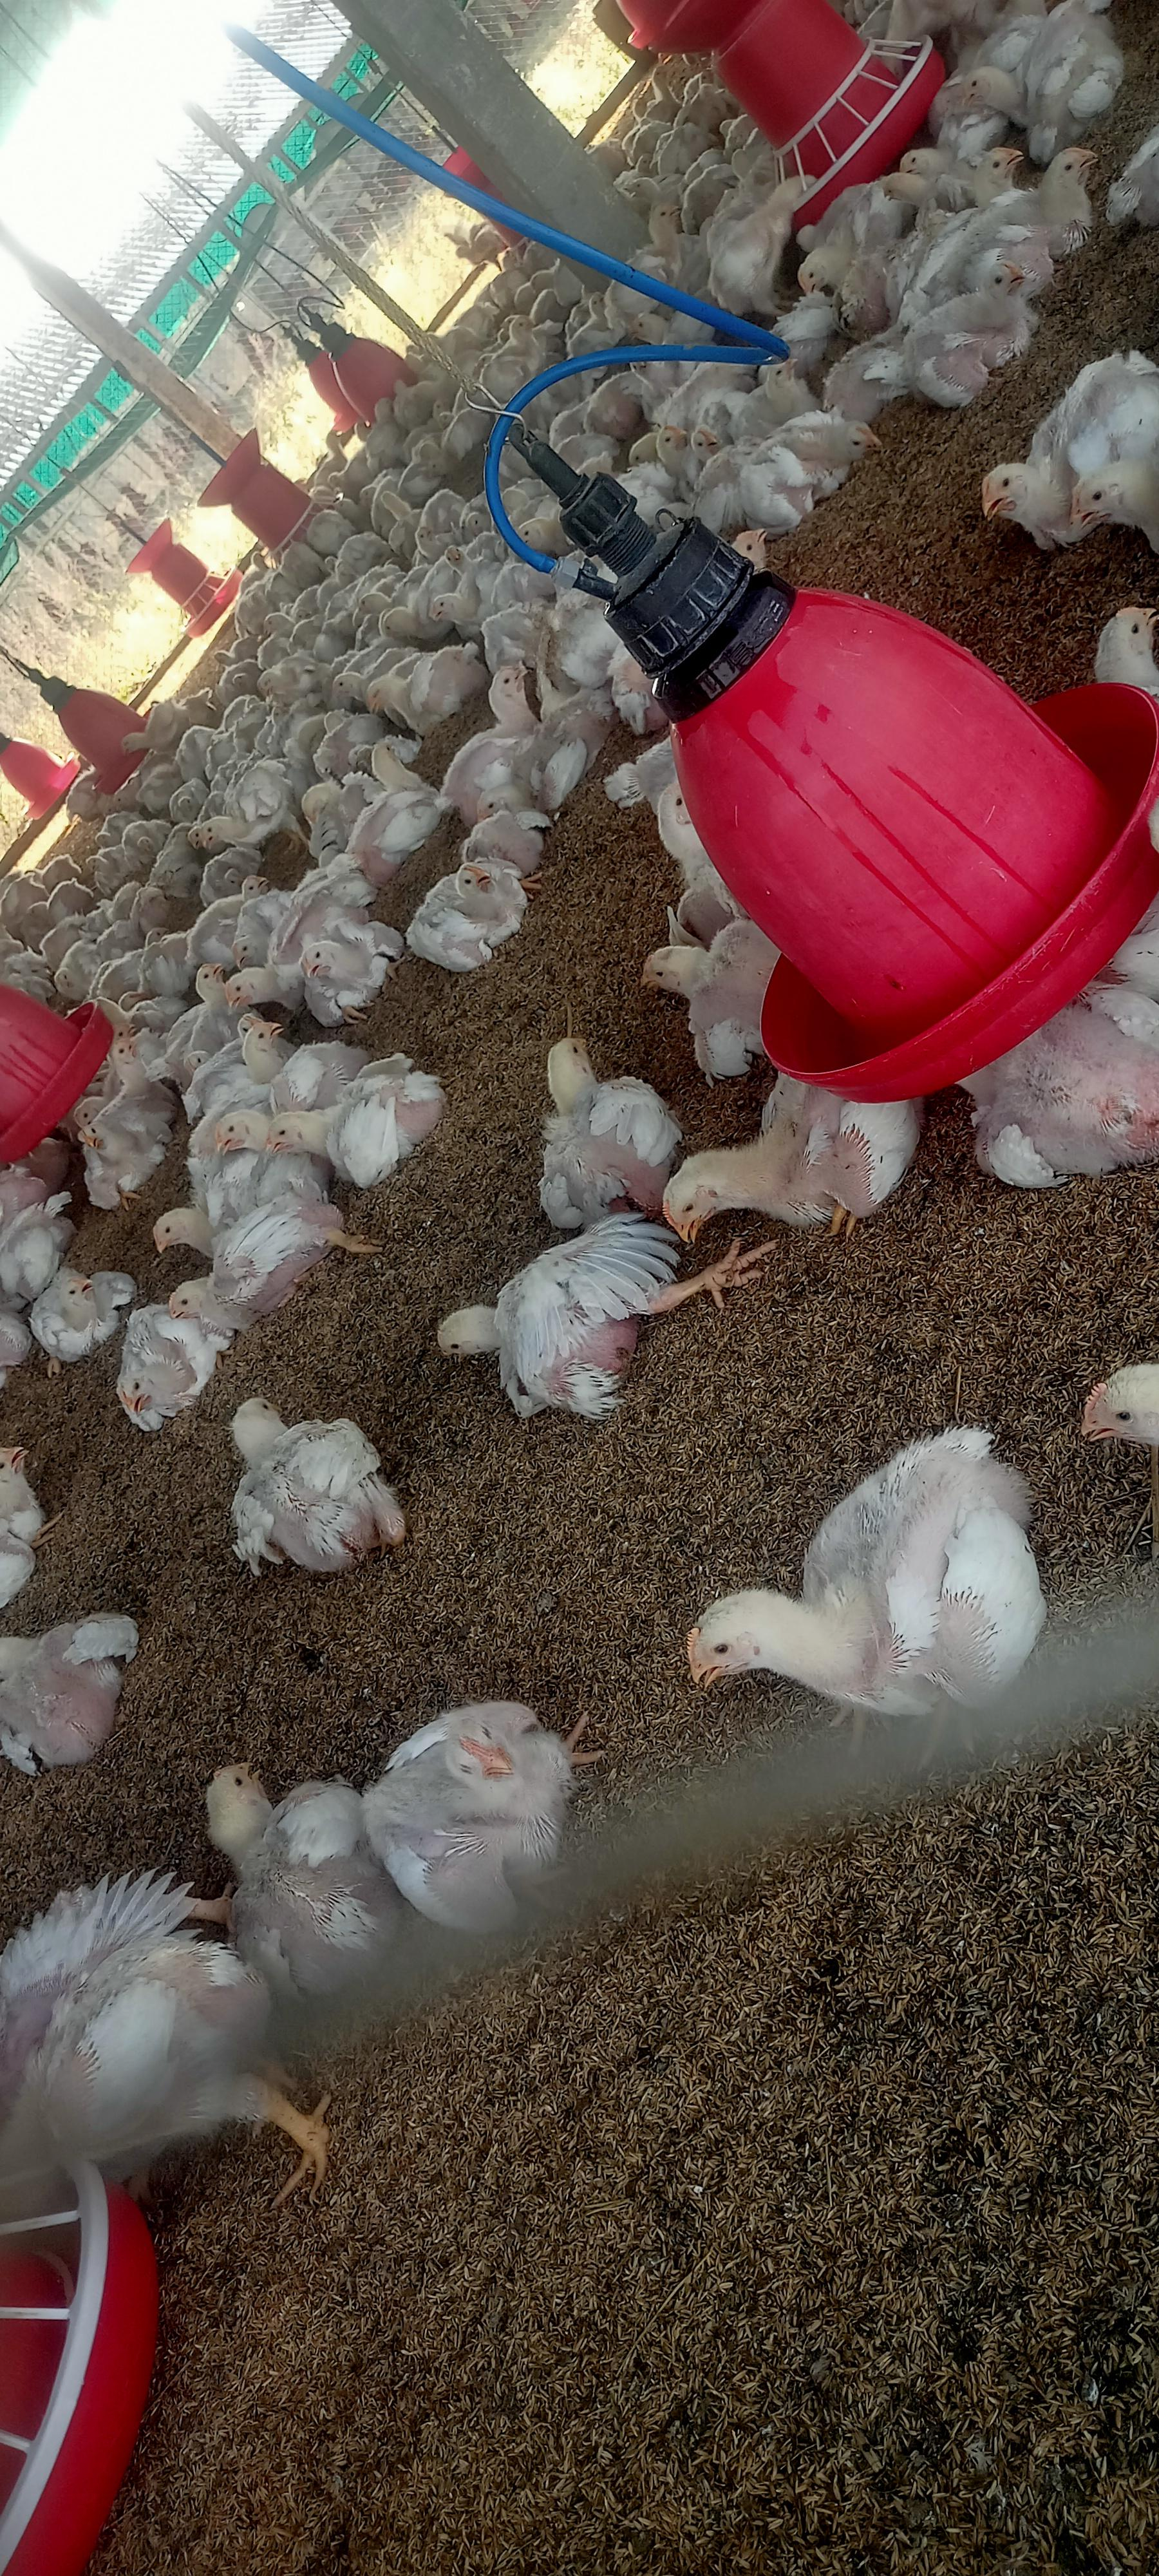Pollos: (691, 1410, 1041, 1735), (381, 1671, 583, 1940), (422, 1234, 683, 1419), (220, 1393, 430, 1562), (208, 1738, 373, 1945), (982, 340, 1146, 539), (507, 1035, 671, 1212), (266, 1048, 443, 1183), (149, 1199, 364, 1283), (107, 1296, 200, 1452), (409, 846, 515, 959)
